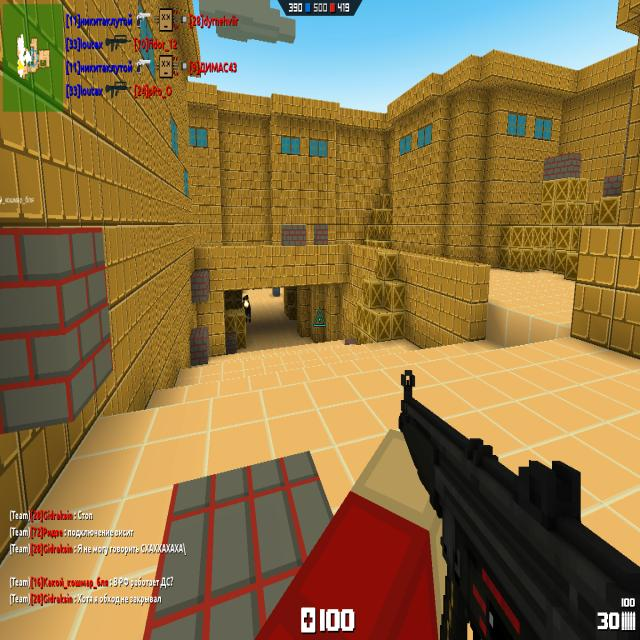enemy: (243, 294, 251, 323)
